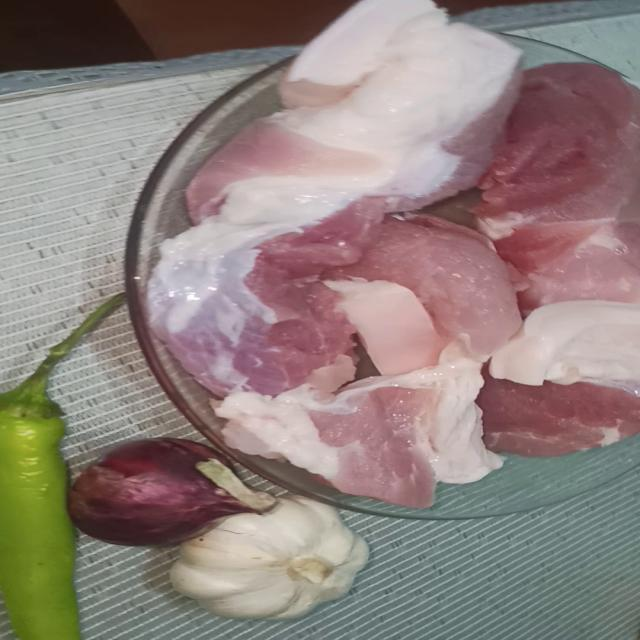chili_pepper: (0, 315, 122, 640)
garlic: (140, 509, 442, 619)
onion: (42, 435, 237, 550)
pork: (223, 18, 457, 227), (148, 207, 373, 397), (178, 372, 507, 488), (492, 64, 640, 234), (362, 218, 531, 352), (489, 330, 640, 463), (486, 207, 640, 317)
